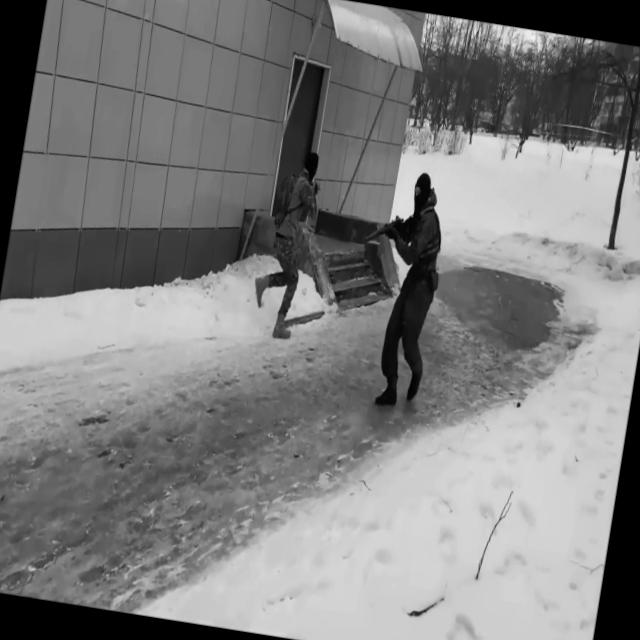gun: (364, 204, 416, 250)
person: (246, 144, 326, 344)
person with a gun: (338, 165, 456, 412)
